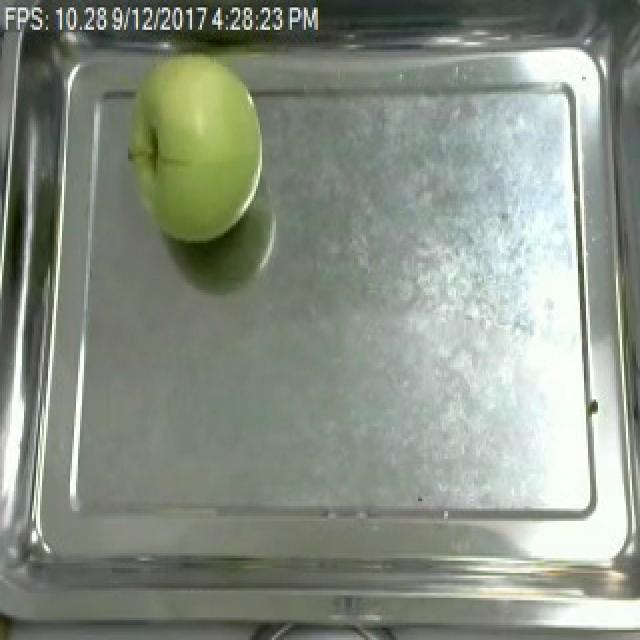50-_ripeness: (118, 51, 274, 253)
